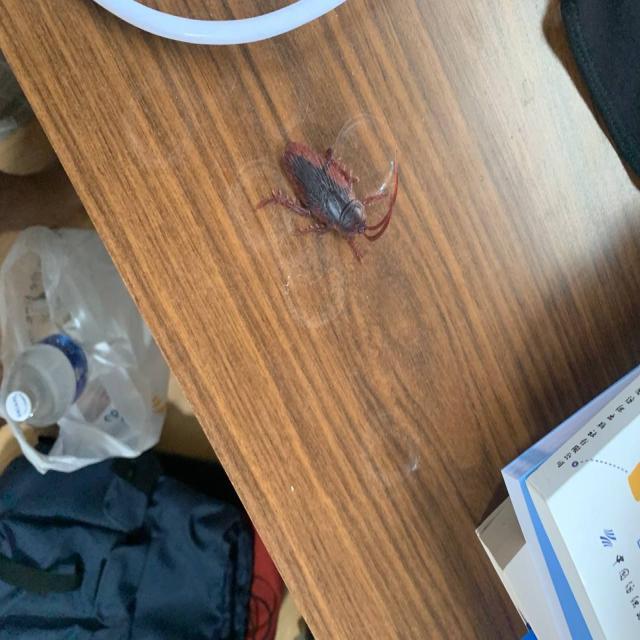Cockroach: (251, 111, 401, 272)
